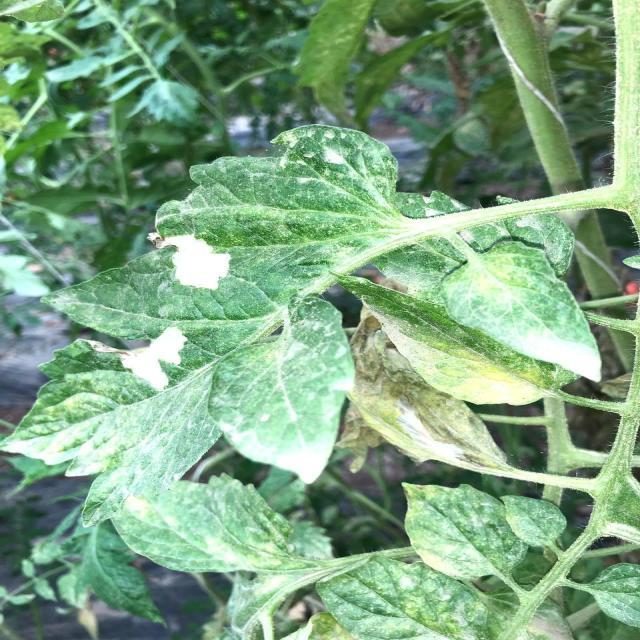Tuta absoluta: (89, 293, 195, 393), (147, 223, 236, 300)
